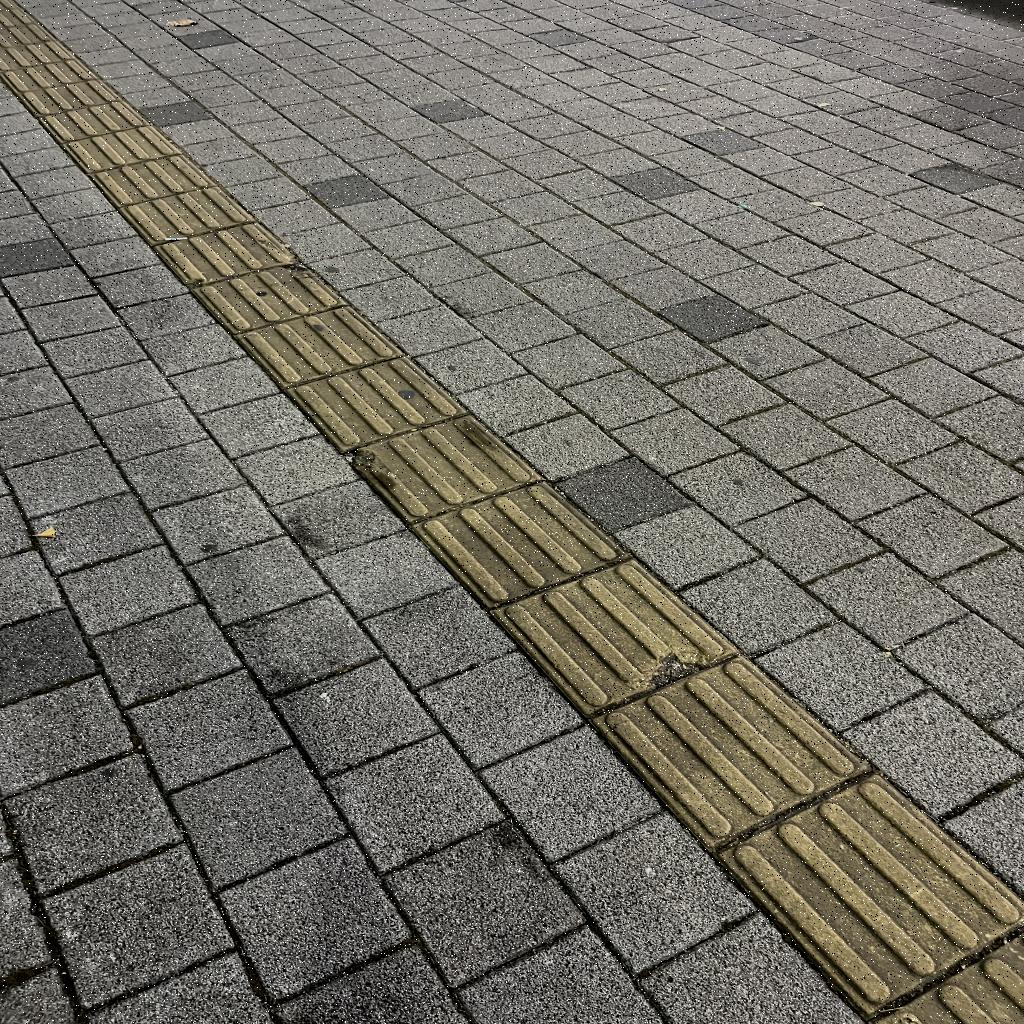Straight block broken: (492, 528, 739, 734), (344, 398, 543, 536), (193, 253, 347, 339), (155, 214, 300, 295)
Straight block normal: (591, 618, 871, 871), (412, 460, 629, 621), (288, 340, 466, 461), (236, 293, 404, 396)
